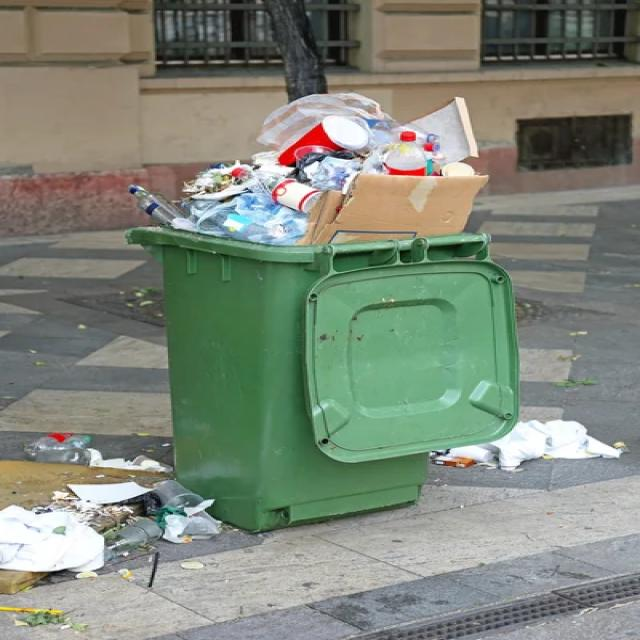garbage: (13, 430, 204, 596), (468, 417, 640, 498)
